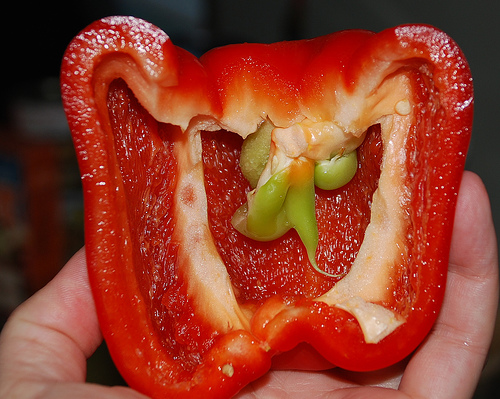capsicum: (57, 13, 475, 398)
